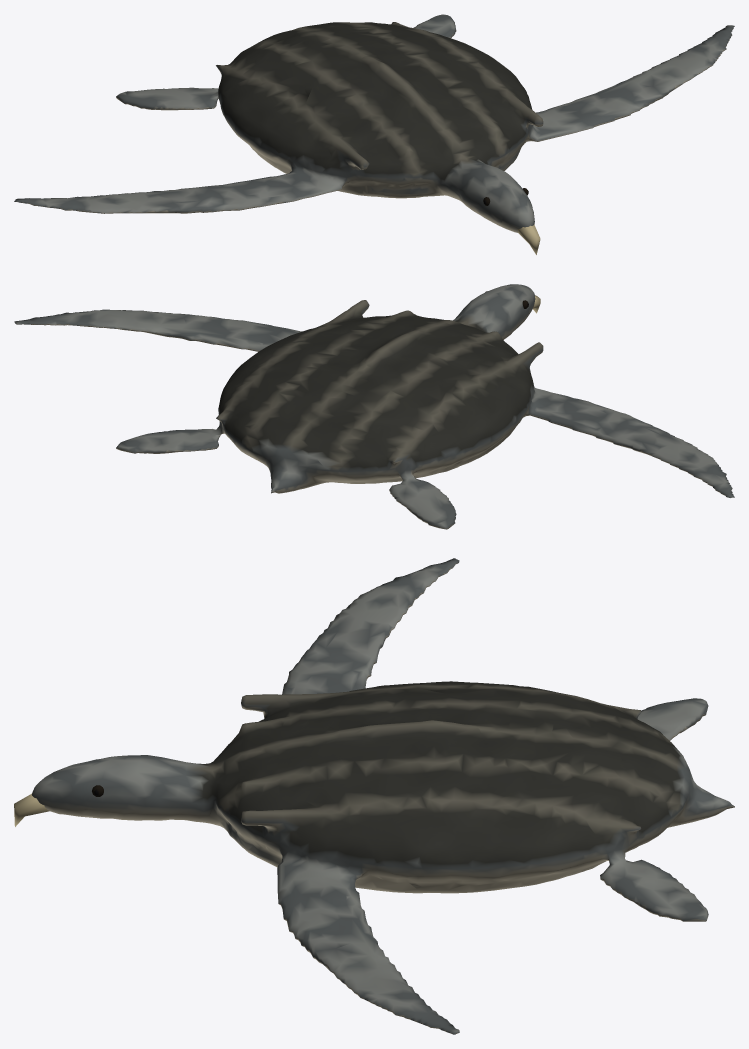
File: Archelon.fbx
3 renders of one model, top to bottom at view 1: azimuth 30°, elevation 25°; view 2: azimuth 150°, elevation 25°; view 3: azimuth 270°, elevation 25°, orthographic. The views are drawn at different scales.
Visible parts, largest first — view 1: Archelon; view 2: Archelon; view 3: Archelon.
Part boxes in pixels (left/top/right/bottom): Archelon: left=14, top=14, right=734, bottom=254; Archelon: left=14, top=284, right=734, bottom=529; Archelon: left=14, top=558, right=734, bottom=1034.
Size of the model in its own units: 2.3 by 0.2699 by 1.47.
